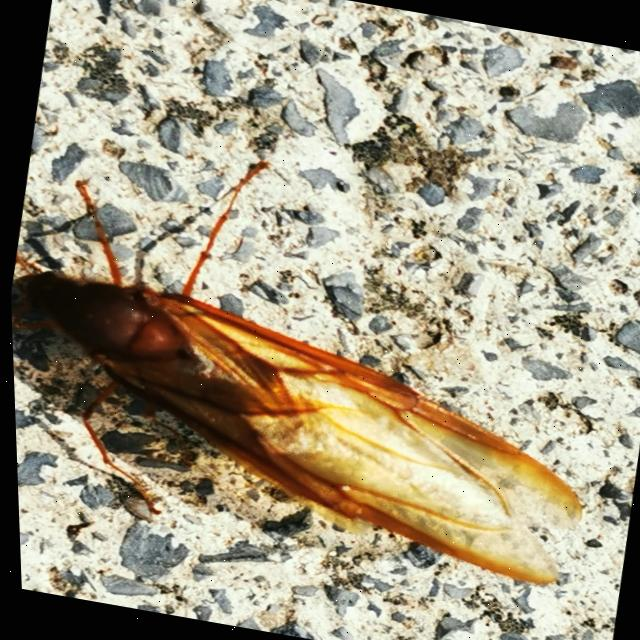Alive-Male-Alate: (3, 119, 631, 592)
